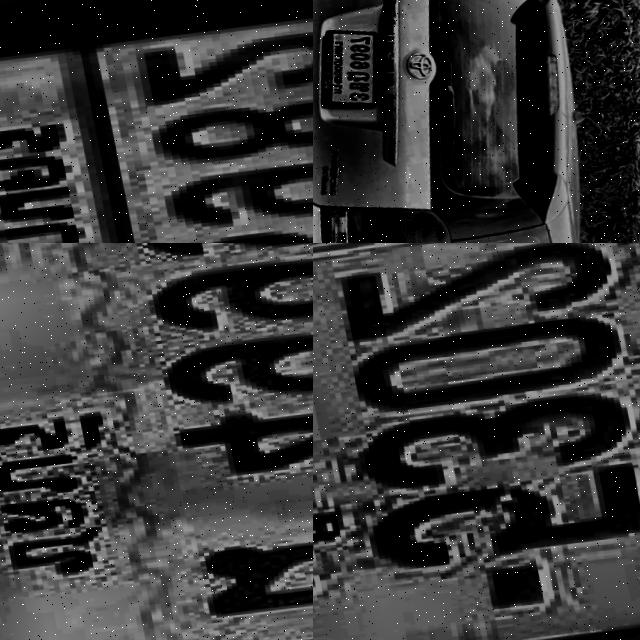license-plate: (313, 243, 640, 640), (0, 243, 313, 640), (0, 0, 313, 243), (313, 23, 388, 117)
